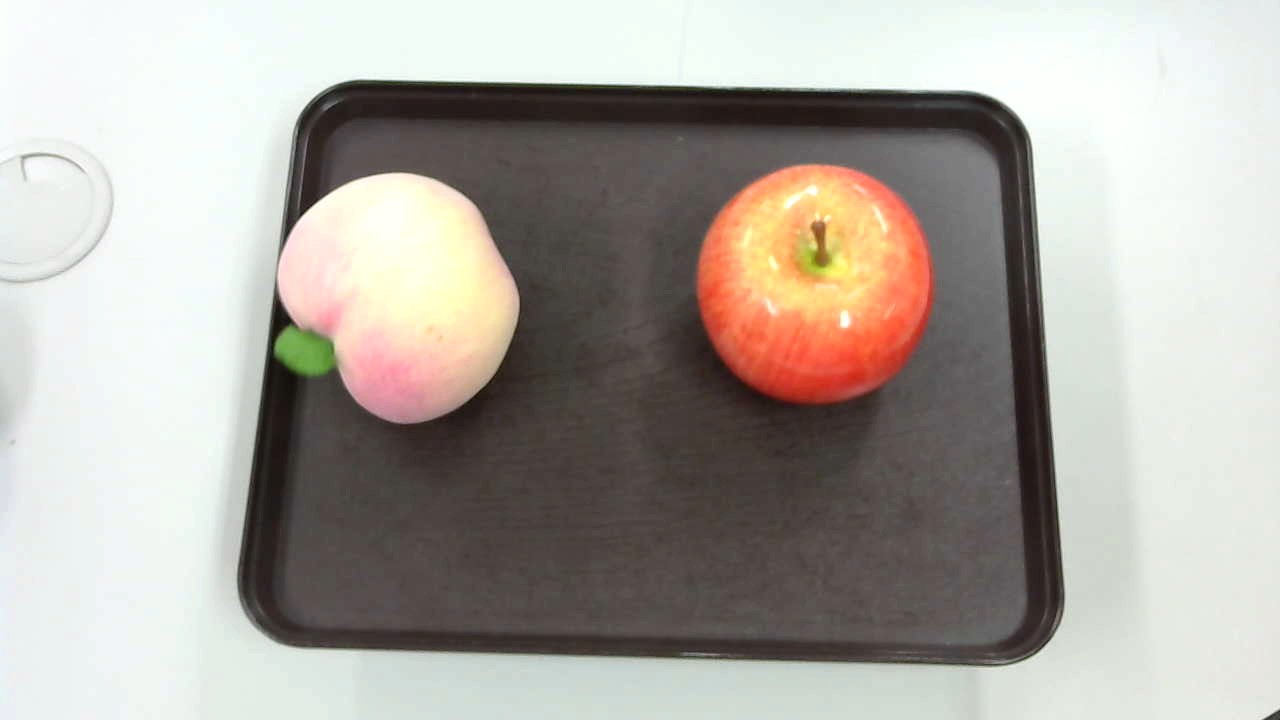peach: (265, 166, 538, 427)
red apple: (682, 151, 948, 419)
